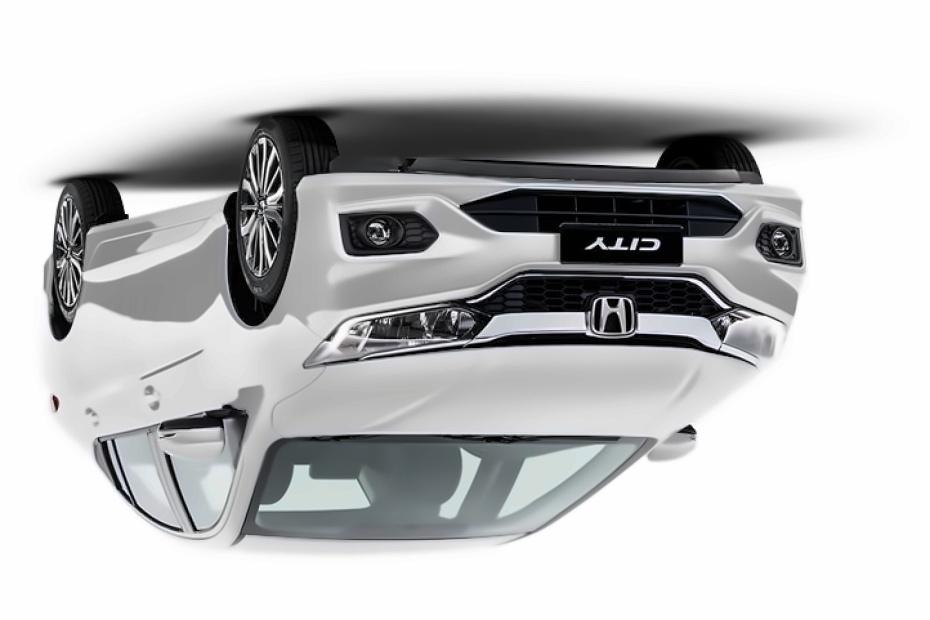Car hood: (266, 347, 761, 450)
Fender - -F-L-: (180, 212, 332, 437)
Front bumper: (286, 142, 809, 327)
Headlight - -L-: (304, 299, 496, 369)
Headlight - -R-: (711, 303, 795, 378)
Passenger-s door - -F-L-: (135, 177, 269, 558)
Passenger-s door - -R-L-: (67, 179, 198, 537)
Side bumper - -L-: (69, 163, 241, 312)
Side mirror - -L-: (156, 411, 258, 470)
Side mirror - -R-: (649, 424, 703, 467)
